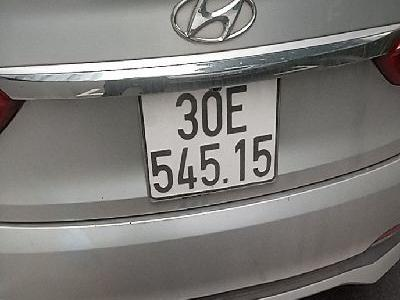number: (138, 78, 282, 202)
